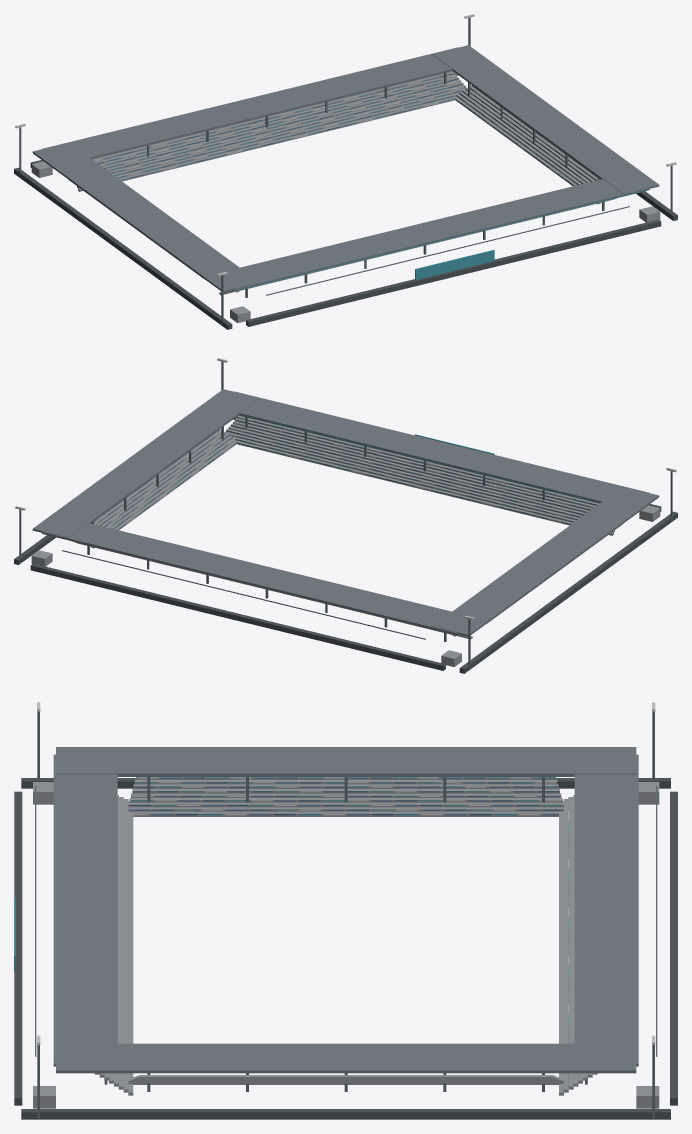
Rendered from gradas_modulares_sem_campo.glb.
The picture shows the model from 3 angles, top to bottom: view 1: azimuth 30°, elevation 25°; view 2: azimuth 150°, elevation 25°; view 3: azimuth 270°, elevation 25°; orthographic projection. The views are drawn at different scales.
Parts seen in each view (by area): view 1: material_06, material_00, material_05, material_08, material_07, material_03, material_02, material_04, material_01; view 2: material_06, material_00, material_05, material_08, material_01, material_04, material_02, material_03, material_07; view 3: material_06, material_00, material_05, material_08, material_01, material_04, material_02, material_03.
Part boxes in pixels (x1,y1,x2,y2): material_06: (32, 45, 659, 292); material_00: (31, 71, 660, 323); material_05: (14, 160, 677, 329); material_08: (19, 17, 672, 325); material_07: (237, 71, 646, 290); material_03: (105, 77, 595, 183); material_02: (94, 76, 591, 182); material_04: (98, 73, 600, 184); material_01: (80, 80, 596, 190); material_06: (32, 389, 659, 636); material_00: (31, 415, 660, 667); material_05: (14, 504, 677, 673); material_08: (19, 361, 672, 669); material_01: (91, 421, 586, 528); material_04: (101, 420, 597, 529); material_02: (95, 417, 593, 527); material_03: (99, 424, 611, 534); material_07: (99, 414, 600, 517); material_06: (53, 747, 638, 1073); material_00: (33, 777, 659, 1108); material_05: (14, 778, 677, 1119); material_08: (35, 712, 657, 1118); material_01: (128, 777, 568, 1043); material_04: (129, 777, 568, 1086); material_02: (132, 777, 568, 1014); material_03: (131, 777, 568, 1074).
Size of the model in its own units: 139 by 15.23 by 114.
